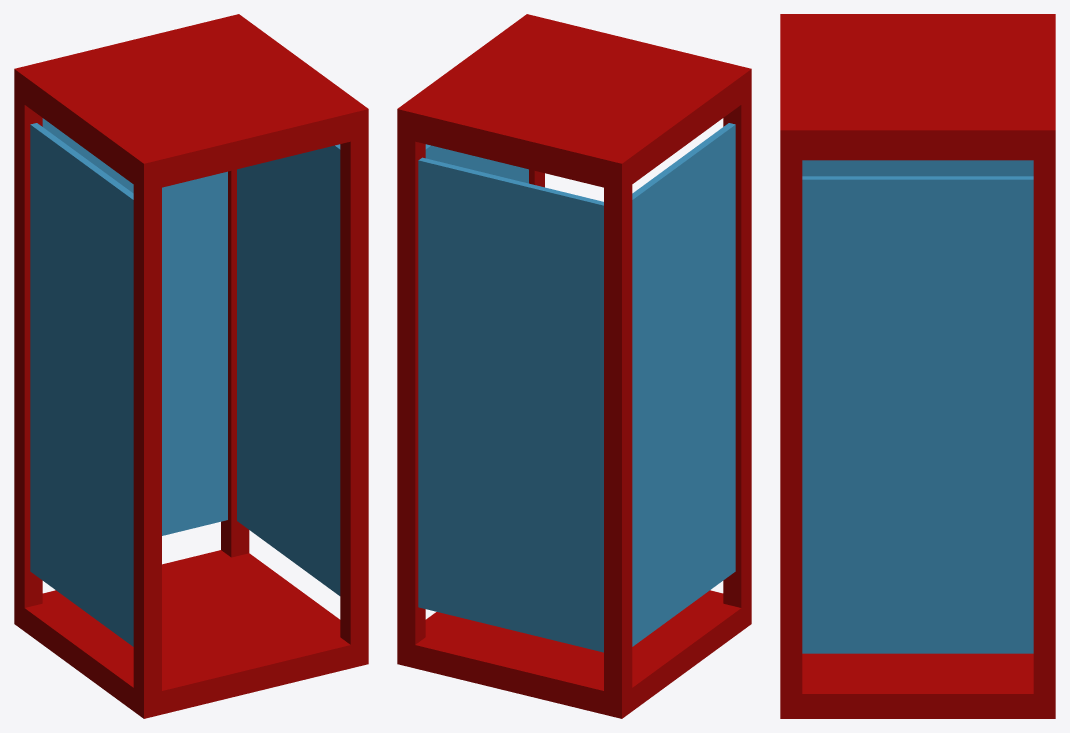
The model's file is phone_booth.obj.
3 views of the same model, side by side, from view 1: azimuth 30°, elevation 25°; view 2: azimuth 150°, elevation 25°; view 3: azimuth 270°, elevation 25° (orthographic). The views are drawn at different scales.
Parts seen in each view (by area): view 1: phone_booth; view 2: phone_booth; view 3: phone_booth.
Boxes of the visible parts, left/top/right/bottom form: phone_booth: left=14, top=14, right=368, bottom=718; phone_booth: left=397, top=14, right=751, bottom=718; phone_booth: left=780, top=14, right=1055, bottom=718.
Bounding box in the file's own units: 1 × 2.36 × 1.
